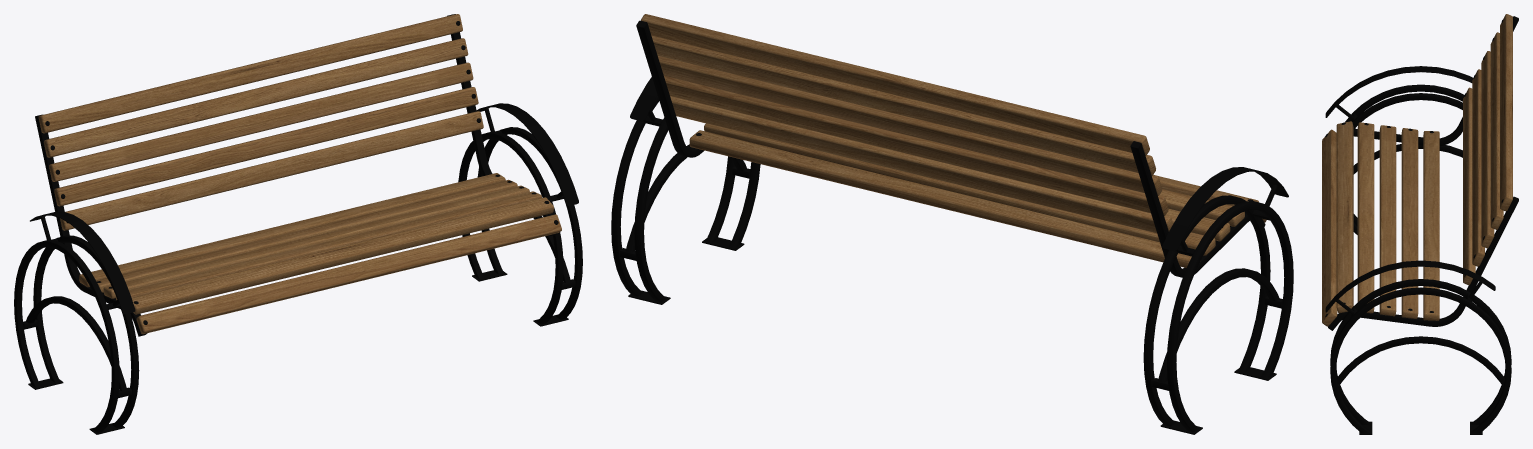
The model's file is bench.obj.
The picture shows the model from 3 angles, left to right: view 1: azimuth 30°, elevation 25°; view 2: azimuth 150°, elevation 25°; view 3: azimuth 270°, elevation 25°; orthographic projection. The views are drawn at different scales.
Visible parts, largest first — view 1: ChamferBox030, Circle008; view 2: ChamferBox030, Circle008; view 3: ChamferBox030, Circle008.
Part boxes in pixels (x1,y1,x2,y2): ChamferBox030: (38,14,561,334); Circle008: (14,14,582,434); ChamferBox030: (641,14,1266,267); Circle008: (611,20,1293,434); ChamferBox030: (1322,14,1512,326); Circle008: (1325,16,1518,434).
Bounding box in the file's own units: 1510 × 771 × 607.
